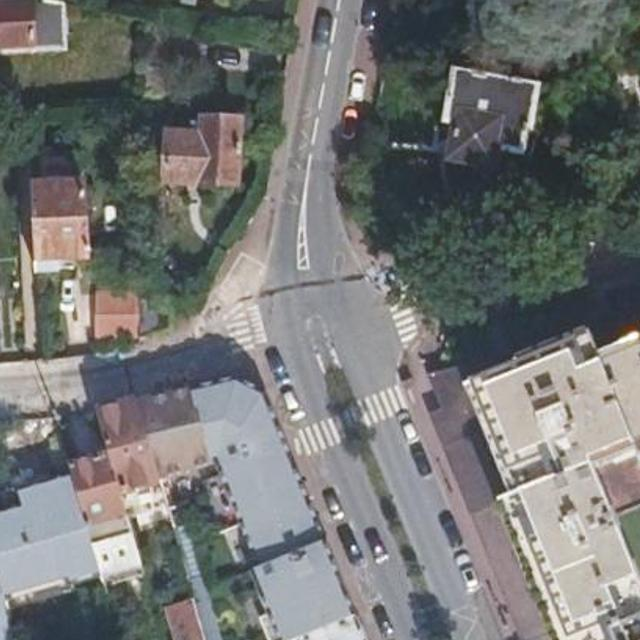passage_pieton: (295, 429, 419, 460), (380, 293, 406, 353), (223, 319, 247, 364)
